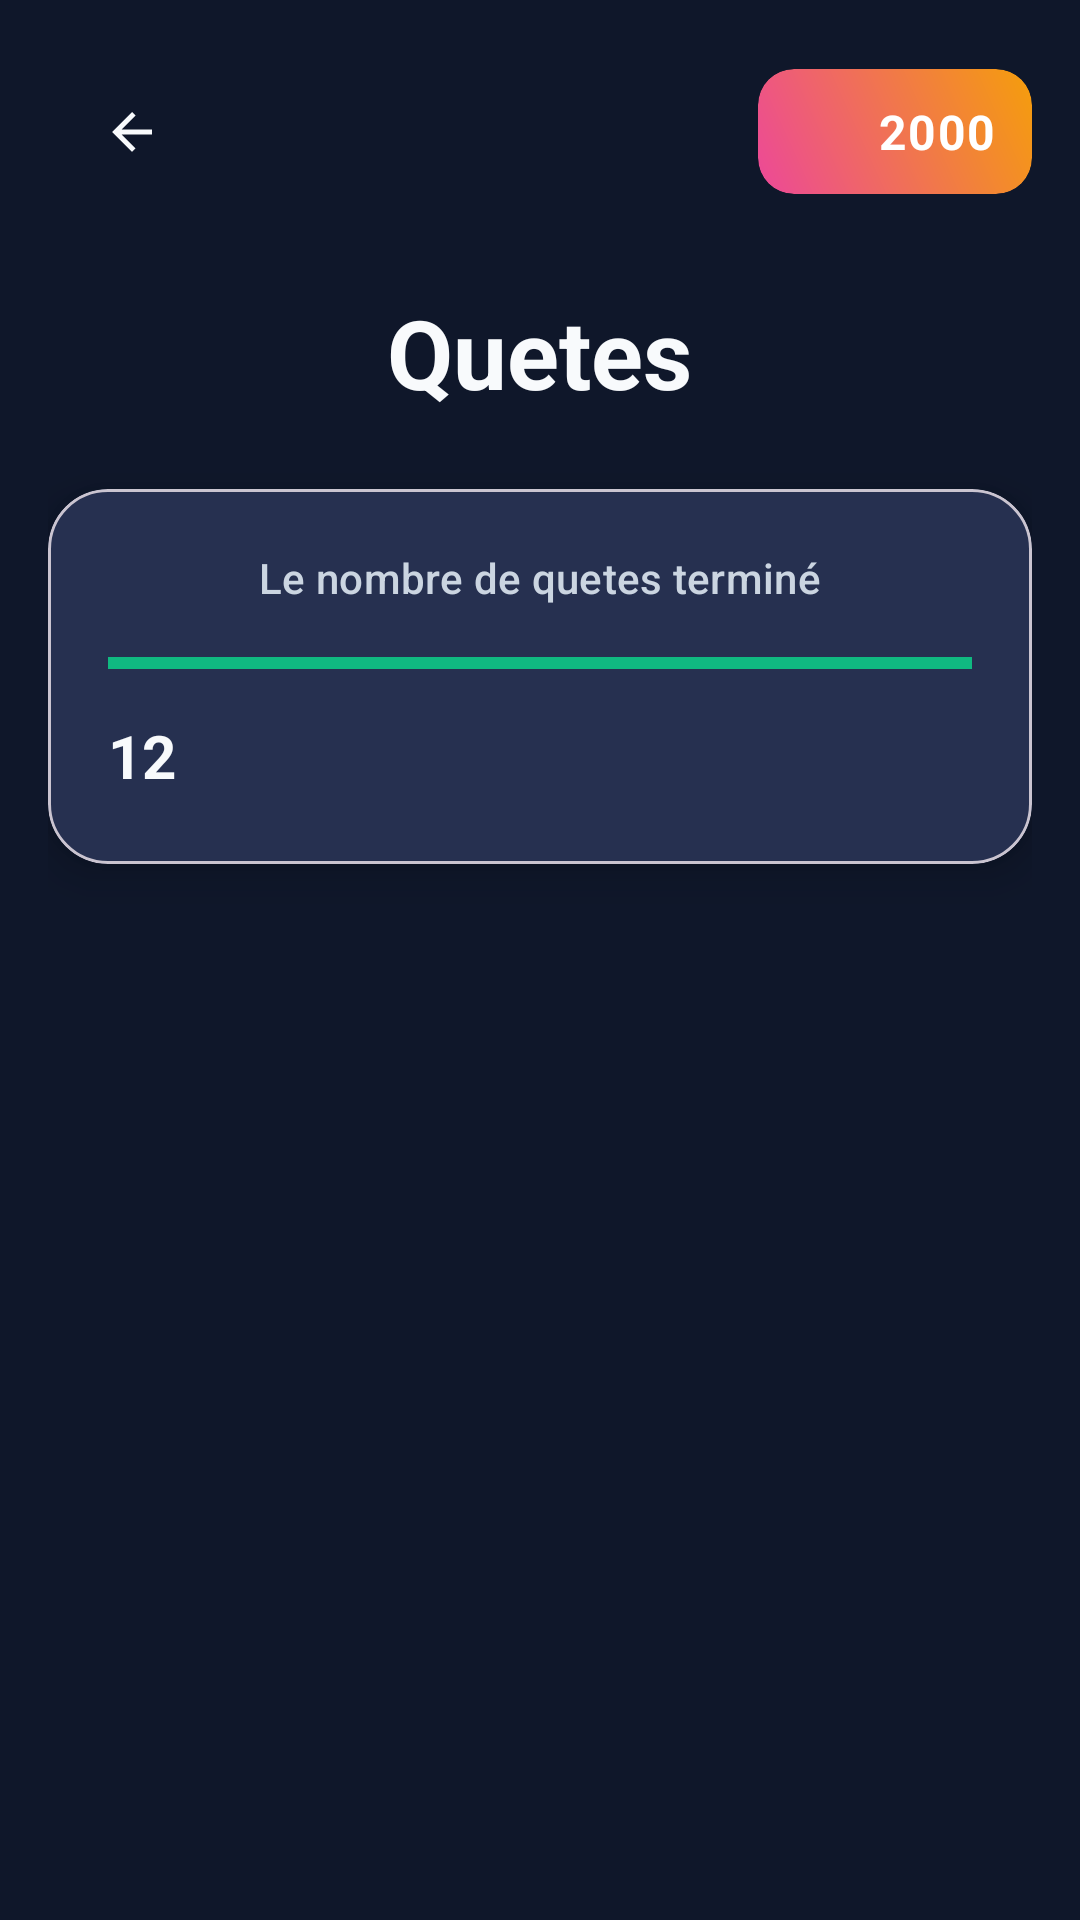

Screen size 1080px×1920px. Icon name, then its box in pixels as {"x1": x1, "y1": y1, "x2": x2, "y2": y2}:
Retour: {"x1": 112, "y1": 112, "x2": 152, "y2": 152}
